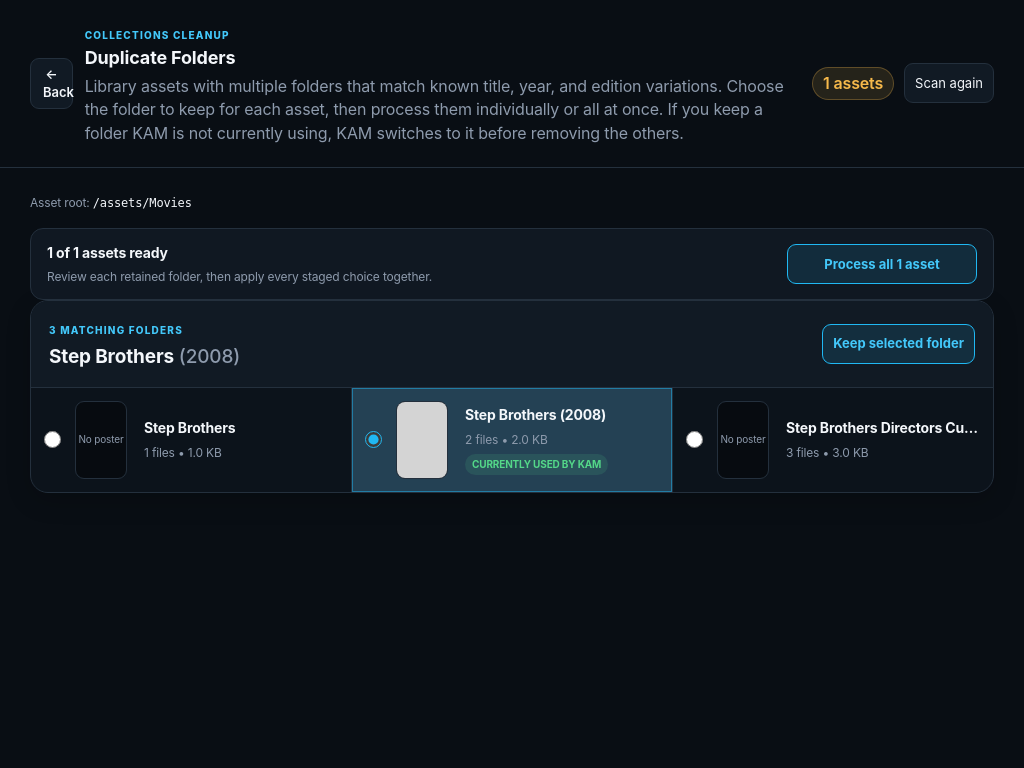
Test: DuplicateFoldersPage › stages choices and processes the full list in one action
expect the text "1 of 1 assets ready" is shown: met, box [47,244,168,261]
expect the text "Collections cleanup" is shown: met, box [85,29,230,41]
What coordinates should you click on to do the following:
click the 3rd radio button
I would click on:
 (694, 440)
Its box is [686,431,703,448].
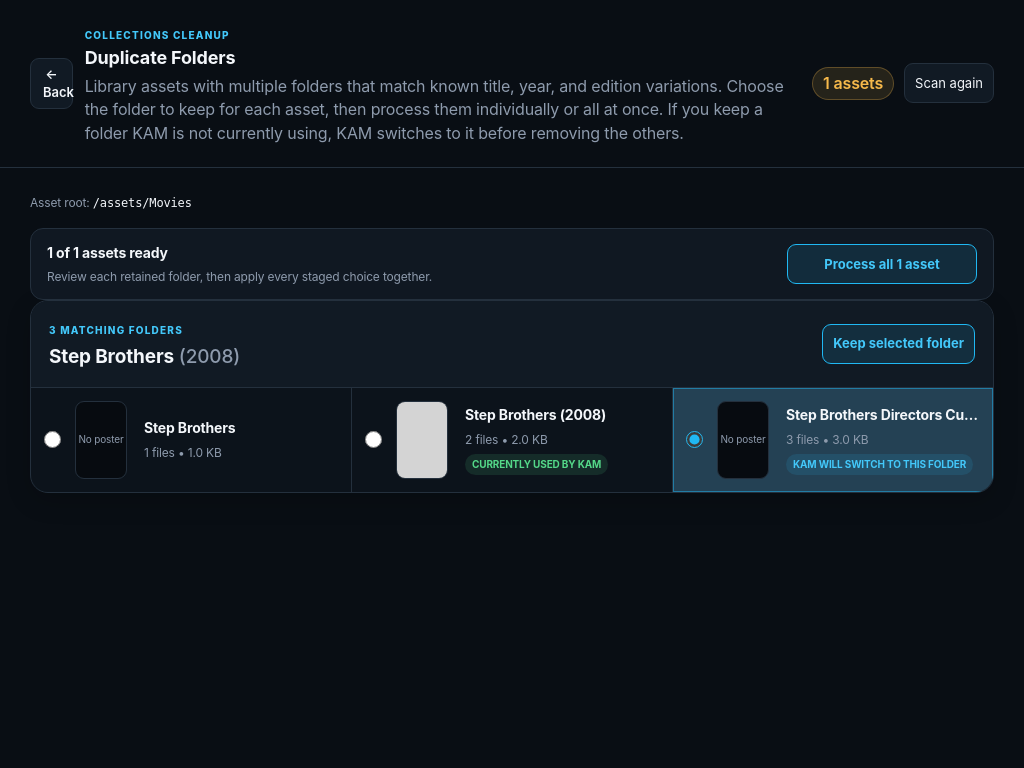
expect the text "KAM will switch to this folder" is shown: met, box [786,454,973,475]
What coordinates should you click on to do the following:
click the button "Process all 1 asset"
I would click on:
 (882, 264)
Its box is [787,244,977,284].
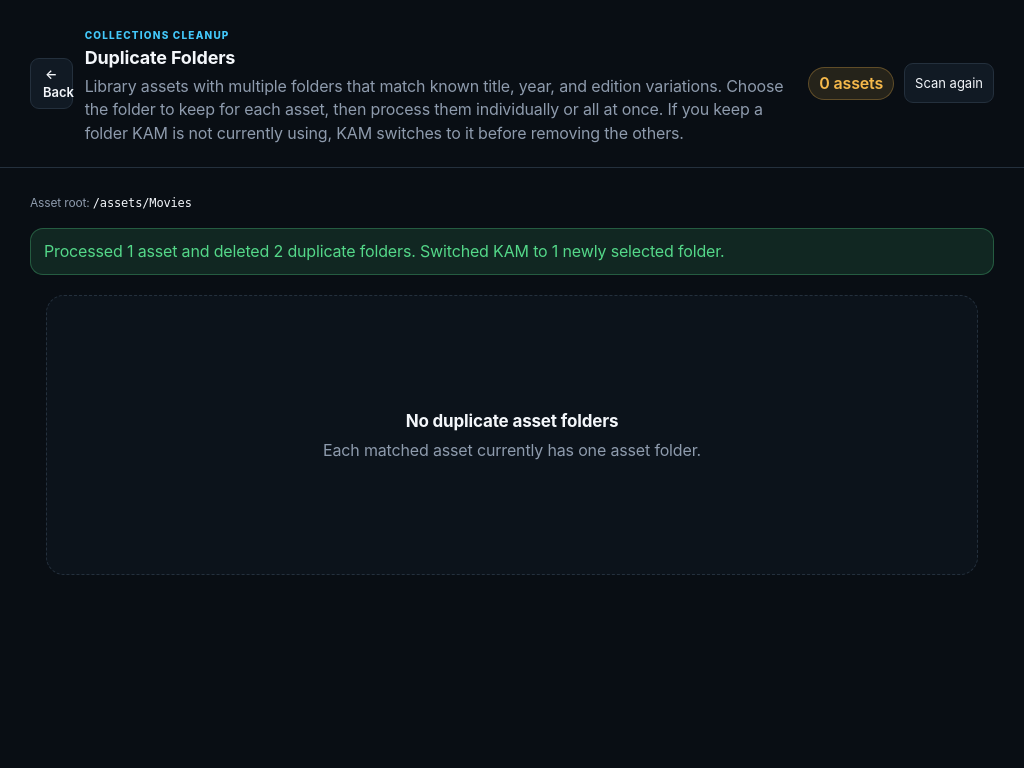
expect the text "No duplicate asset folders" is shown: met, box [406,410,618,430]
expect the message shows "Processed 1 asset and deleted 2 duplicate folders.": met, box [44,241,725,261]
expect the message shows "Switched KAM to 1 newly selected folder.": met, box [44,241,725,261]
